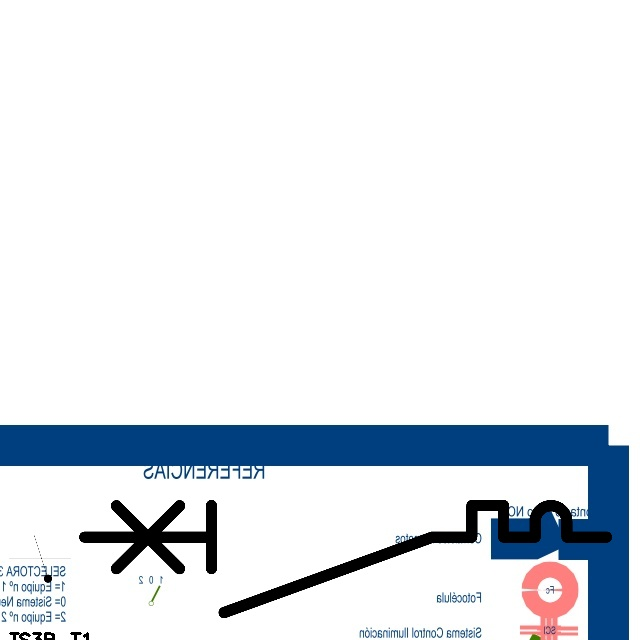interruptor_termomagnetico: (71, 492, 620, 626)
